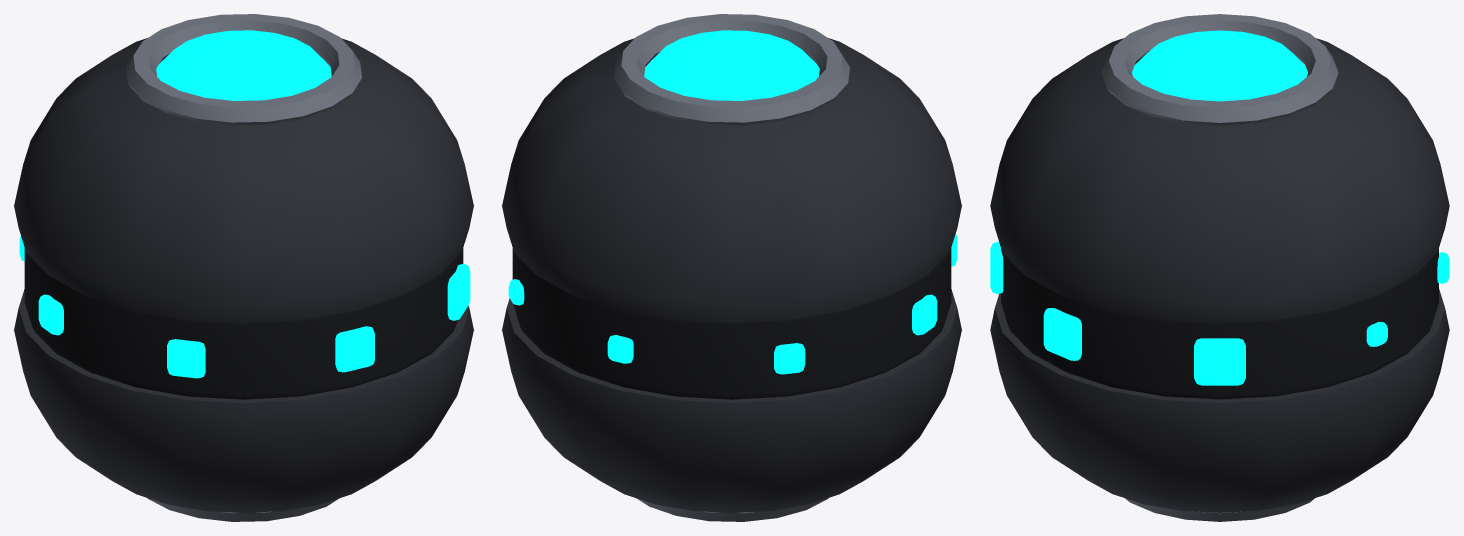
Rendered from LagField.fbx.
3 renders of one model, left to right at view 1: azimuth 30°, elevation 25°; view 2: azimuth 150°, elevation 25°; view 3: azimuth 270°, elevation 25°, orthographic.
Parts seen in each view (by area): view 1: Caps_Shell, Caps_Dark, Bezels, Core_Energy, Spinner_Energy; view 2: Caps_Shell, Caps_Dark, Bezels, Core_Energy, Spinner_Energy; view 3: Caps_Shell, Caps_Dark, Bezels, Core_Energy, Spinner_Energy.
Part boxes in pixels (x1=…): Caps_Shell: x1=14, y1=38, x2=473, y2=512; Caps_Dark: x1=24, y1=248, x2=463, y2=399; Bezels: x1=126, y1=14, x2=361, y2=521; Core_Energy: x1=156, y1=30, x2=331, y2=100; Spinner_Energy: x1=19, y1=236, x2=470, y2=378; Caps_Shell: x1=502, y1=38, x2=961, y2=512; Caps_Dark: x1=512, y1=248, x2=951, y2=399; Bezels: x1=614, y1=14, x2=849, y2=521; Core_Energy: x1=644, y1=30, x2=819, y2=100; Spinner_Energy: x1=508, y1=233, x2=957, y2=374; Caps_Shell: x1=990, y1=38, x2=1449, y2=512; Caps_Dark: x1=1001, y1=248, x2=1438, y2=399; Bezels: x1=1101, y1=14, x2=1338, y2=521; Core_Energy: x1=1132, y1=30, x2=1307, y2=101; Spinner_Energy: x1=990, y1=242, x2=1449, y2=385.
Size of the model in its own units: 0.604 by 0.642 by 0.604.
